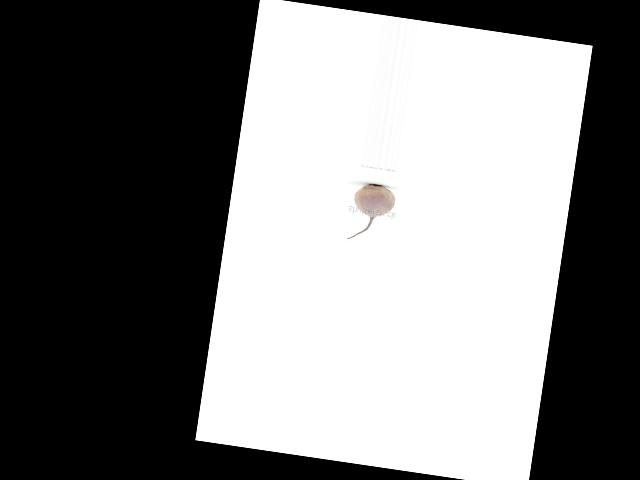beet: (347, 181, 398, 245)
